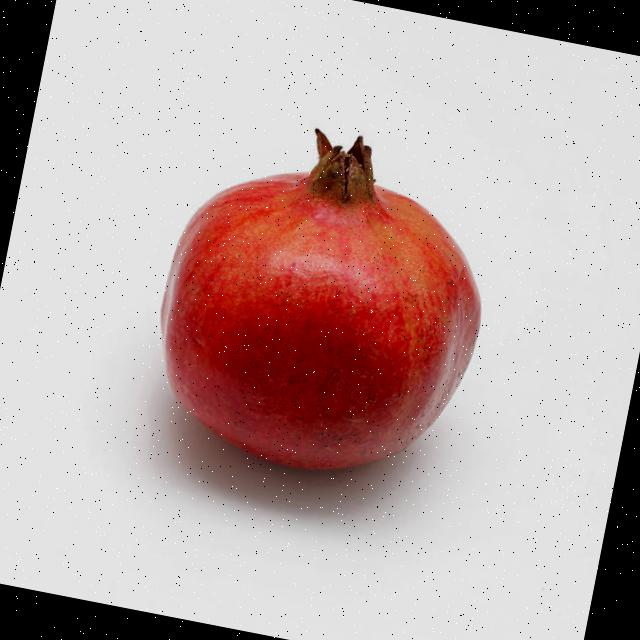Ripe: (124, 92, 539, 505)
